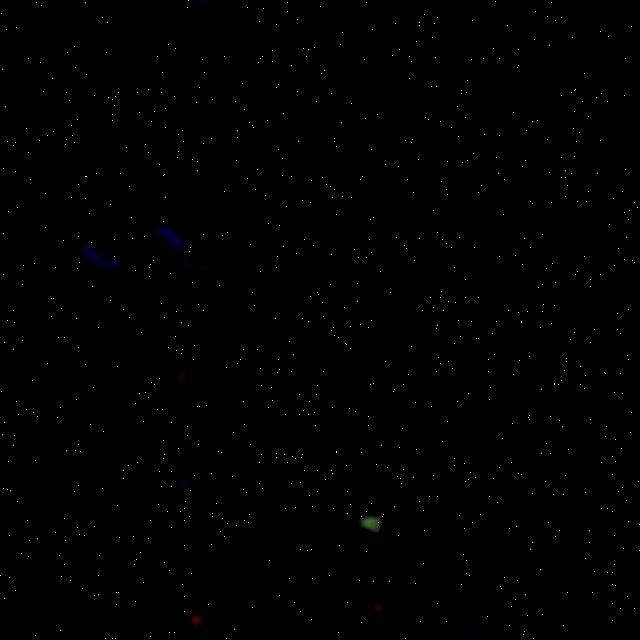microbeads: (356, 514, 382, 534)
